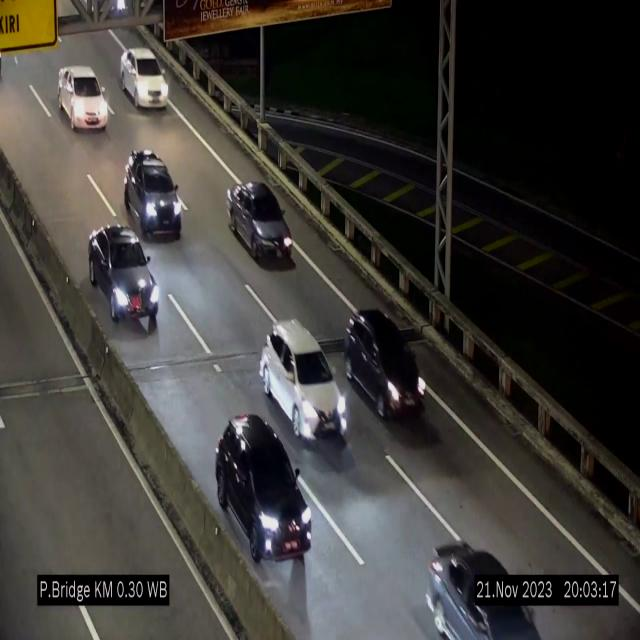Car: (415, 506, 538, 640), (215, 412, 312, 570), (260, 320, 348, 439), (344, 310, 427, 420), (88, 226, 158, 330), (225, 182, 294, 265), (125, 150, 182, 240), (59, 66, 108, 130), (121, 47, 169, 109)
